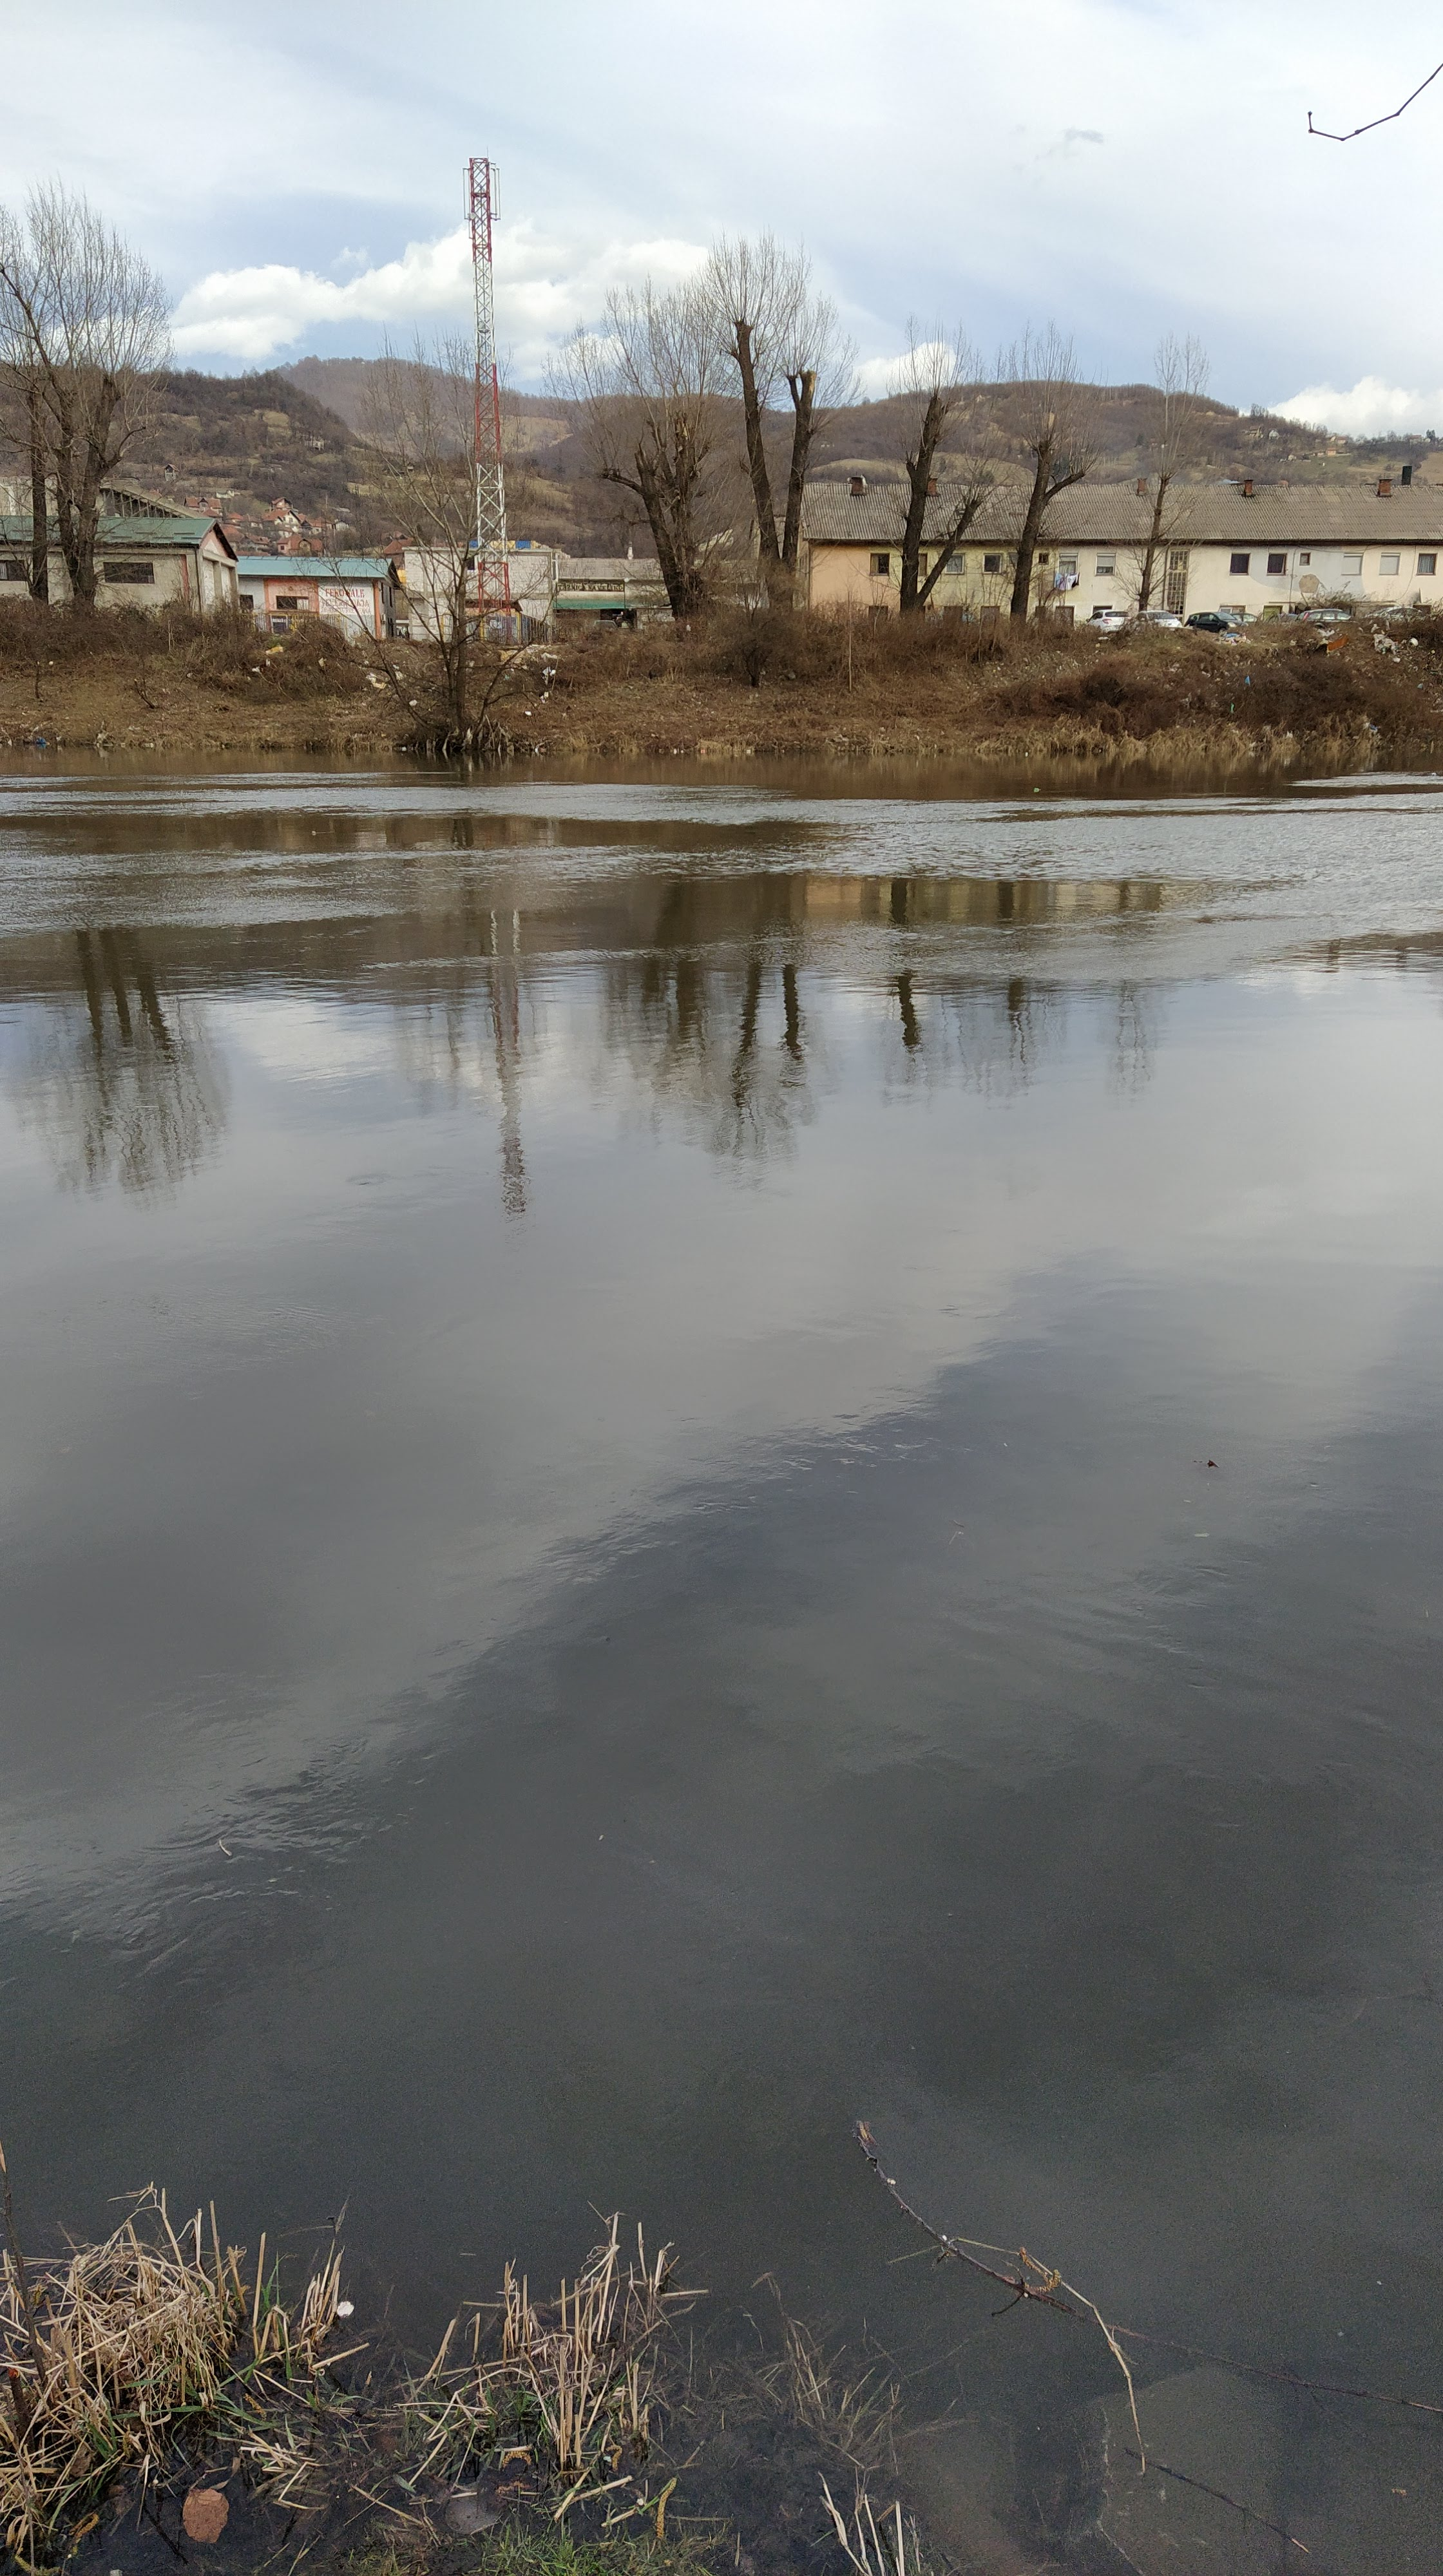Plastic Bottle: (1034, 787, 1039, 793)
